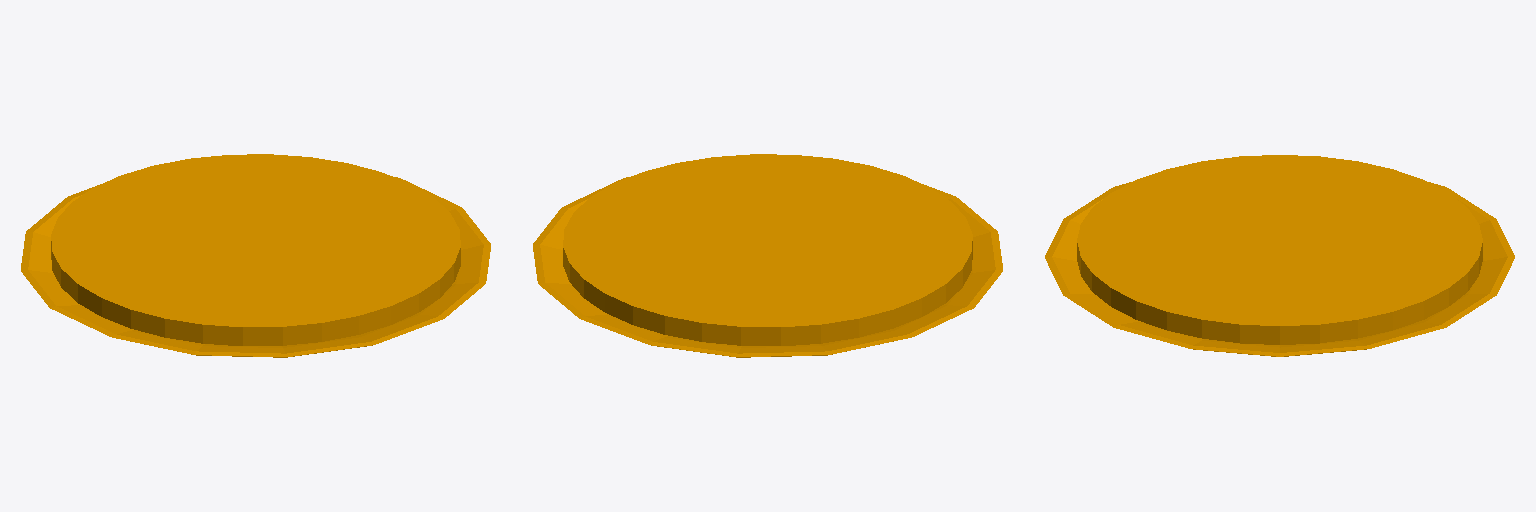
The robot description file, URDF, robot "pizza_plate":
<?xml version="1.0"?>

<robot name="pizza_plate">
  <link name="pizza_plate">
    <gravity>false</gravity>
    <inertial>
       <mass value="0.02"/>
       <inertia
        ixx="0.0007"
        ixy="0"
        ixz="0"
        iyy="0.0007"
        iyz="0"
        izz="0.007" />
    </inertial>
    <visual>
      <origin rpy="0 0 0" xyz="0 0 0"/>
      <geometry>
        <mesh filename="package://pizza_demo/models/pizza_plate/meshes/pizza_plate_visual.stl"/>
      </geometry>
    </visual>
    <collision>
      <origin rpy="0 0 0" xyz="0 0 0"/>
        <geometry><box size="0.0001 0.0001 0.0001" /></geometry>
          <surface>
            <contact>
              <collide_without_contact>true</collide_without_contact>
            </contact>
          </surface>
    </collision>
  </link>
</robot>

--- Facts derived from the render (not from the file) ---
The picture shows the robot from 3 angles, left to right: view 1: azimuth 30°, elevation 25°; view 2: azimuth 150°, elevation 25°; view 3: azimuth 270°, elevation 25°; orthographic projection.
Robot: pizza_plate — 1 links, 0 joints (none); root link pizza_plate; default pose: all joints at 0.
Visible links, largest first — view 1: pizza_plate; view 2: pizza_plate; view 3: pizza_plate.
Link boxes in pixels (x1=…): pizza_plate: x1=21, y1=154, x2=490, y2=357; pizza_plate: x1=533, y1=154, x2=1002, y2=357; pizza_plate: x1=1045, y1=155, x2=1514, y2=356.
Size in the robot's own frame: 0.3597 by 0.3597 by 0.0408 metres.
1 mesh visuals loaded from 1 distinct referenced files (1 binary STL).